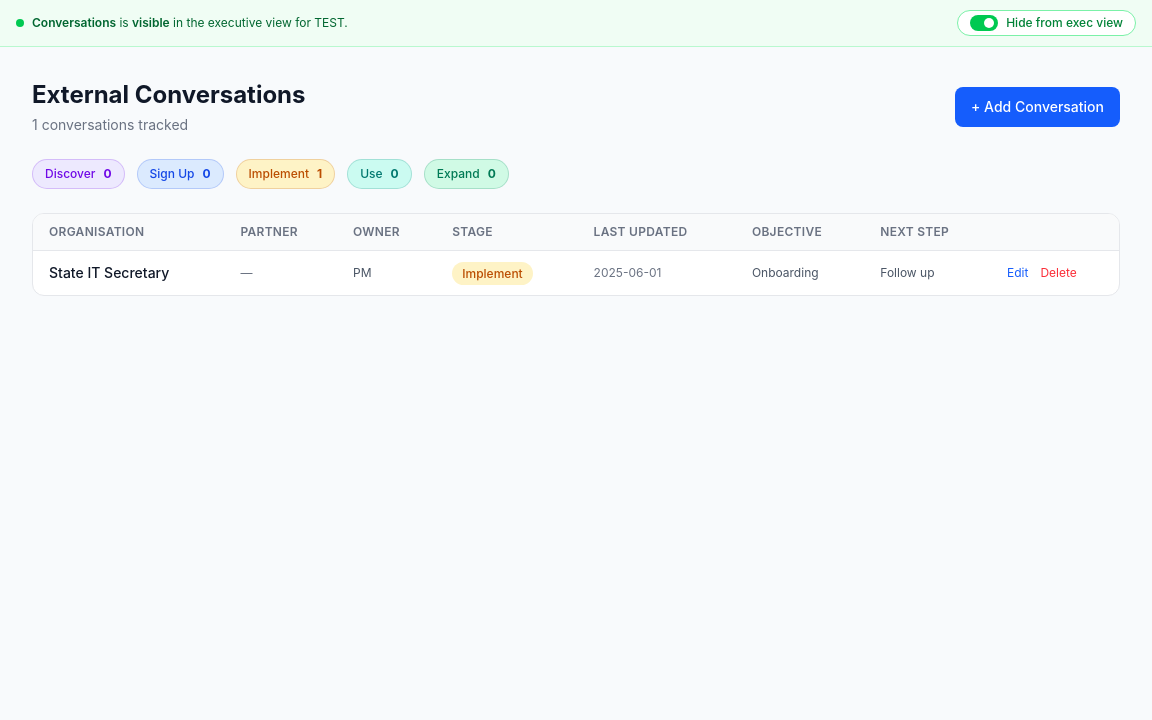
it: ConversationEditor › T-38.06: Edit button opens modal for existing conversation
Expected: the text "State IT Secretary" is shown, [33, 250, 224, 295]
Click the button "Edit" at (1018, 273), box [1007, 265, 1028, 281]
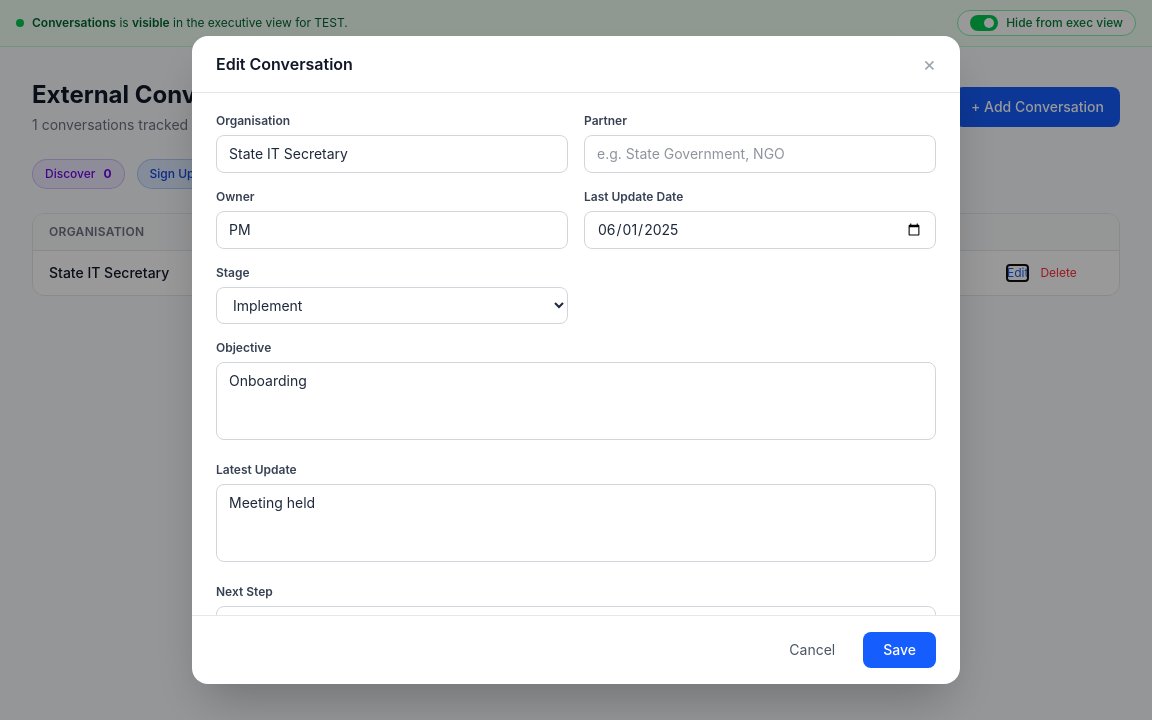
Result: the heading "Edit Conversation" is shown at [216, 52, 353, 76]
